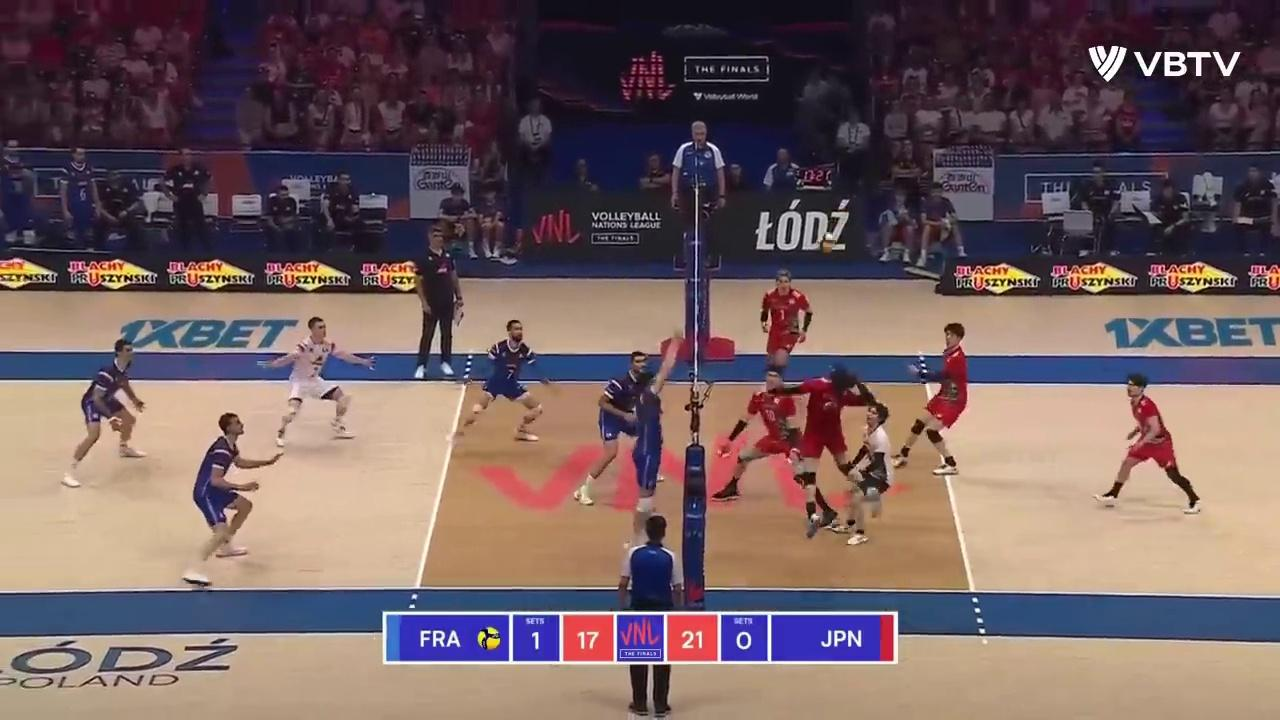ball: (818, 234, 833, 253)
